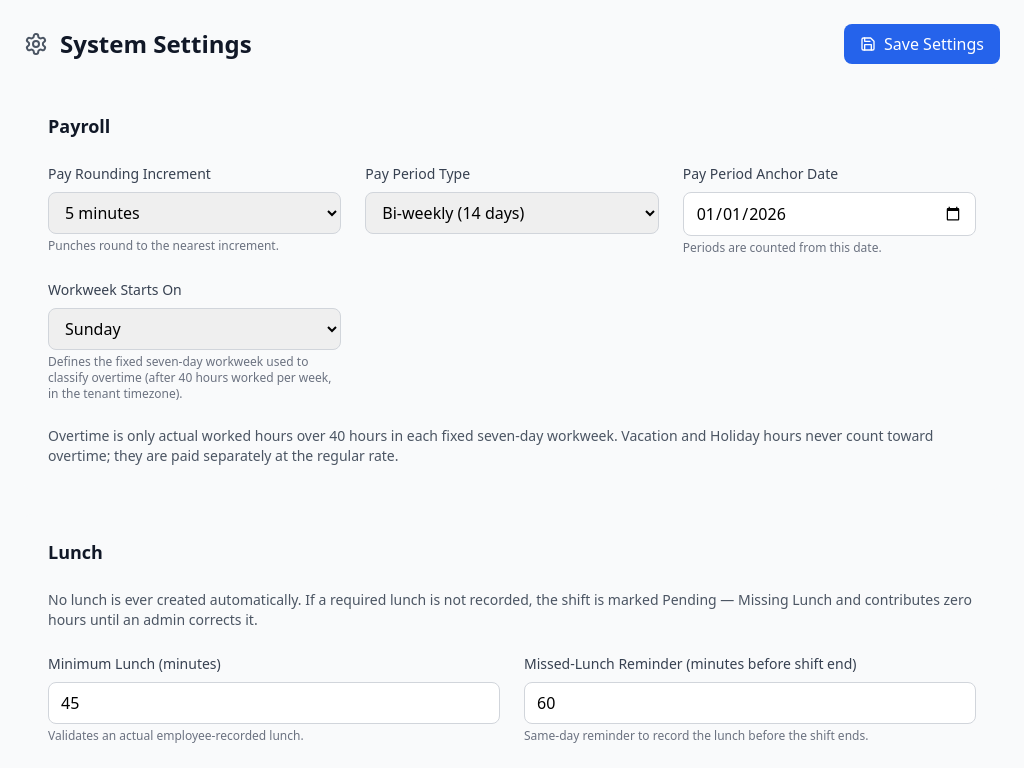
Scenario: Settings form — focus retention › accepts 180 from a single focus/click and keeps focus on the same input the whole time
The width and height of the screenshot is (1024, 768).
Expected: the text "Minimum Lunch (minutes)" is shown, [48, 654, 221, 673]
Click the 2nd number field at (750, 703), box [524, 682, 976, 724]
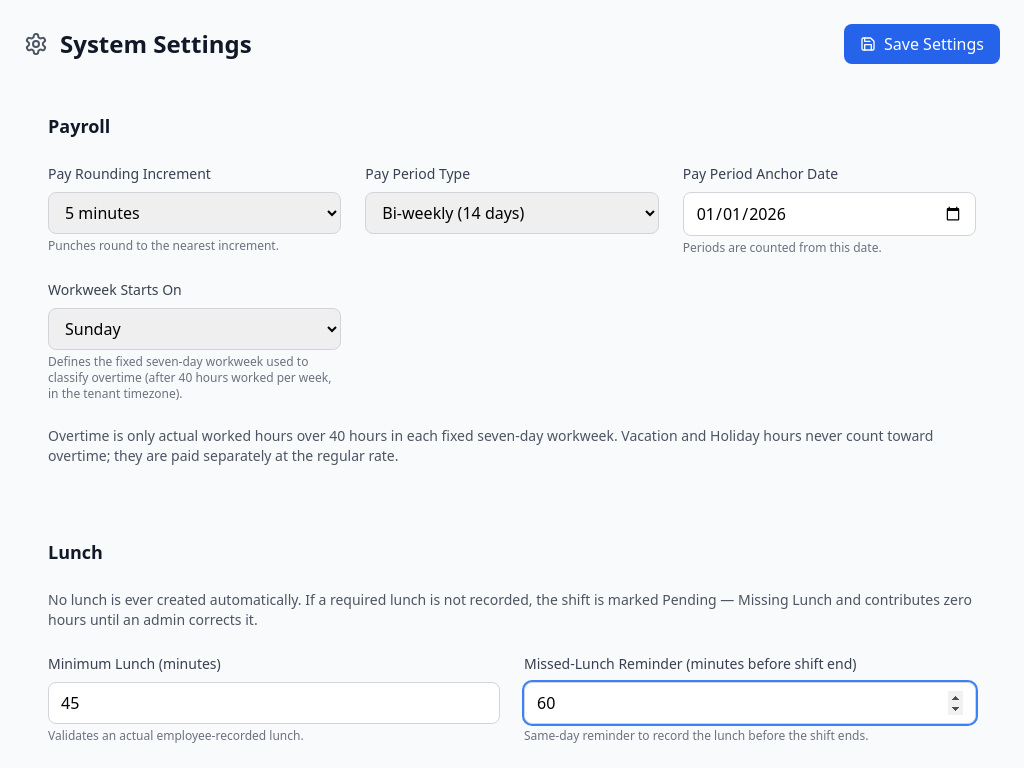
Type keys "{Control>}a{/Control}"
Type keys "180"
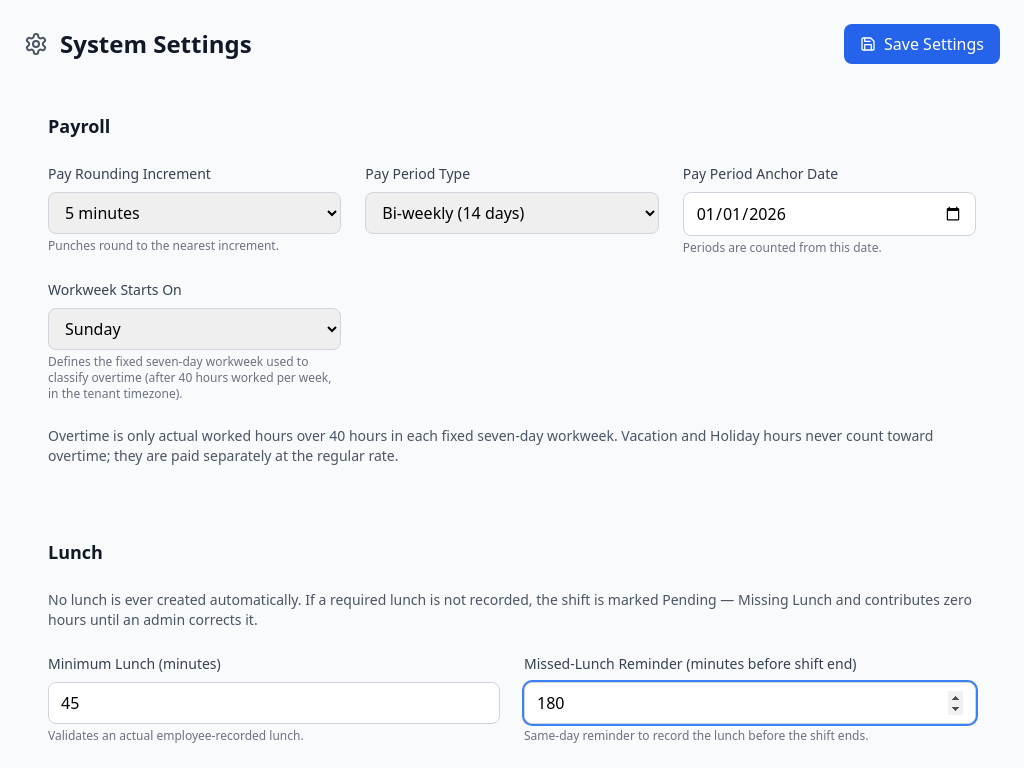
Expected: the 2nd number field holds "180", [524, 682, 976, 724]
